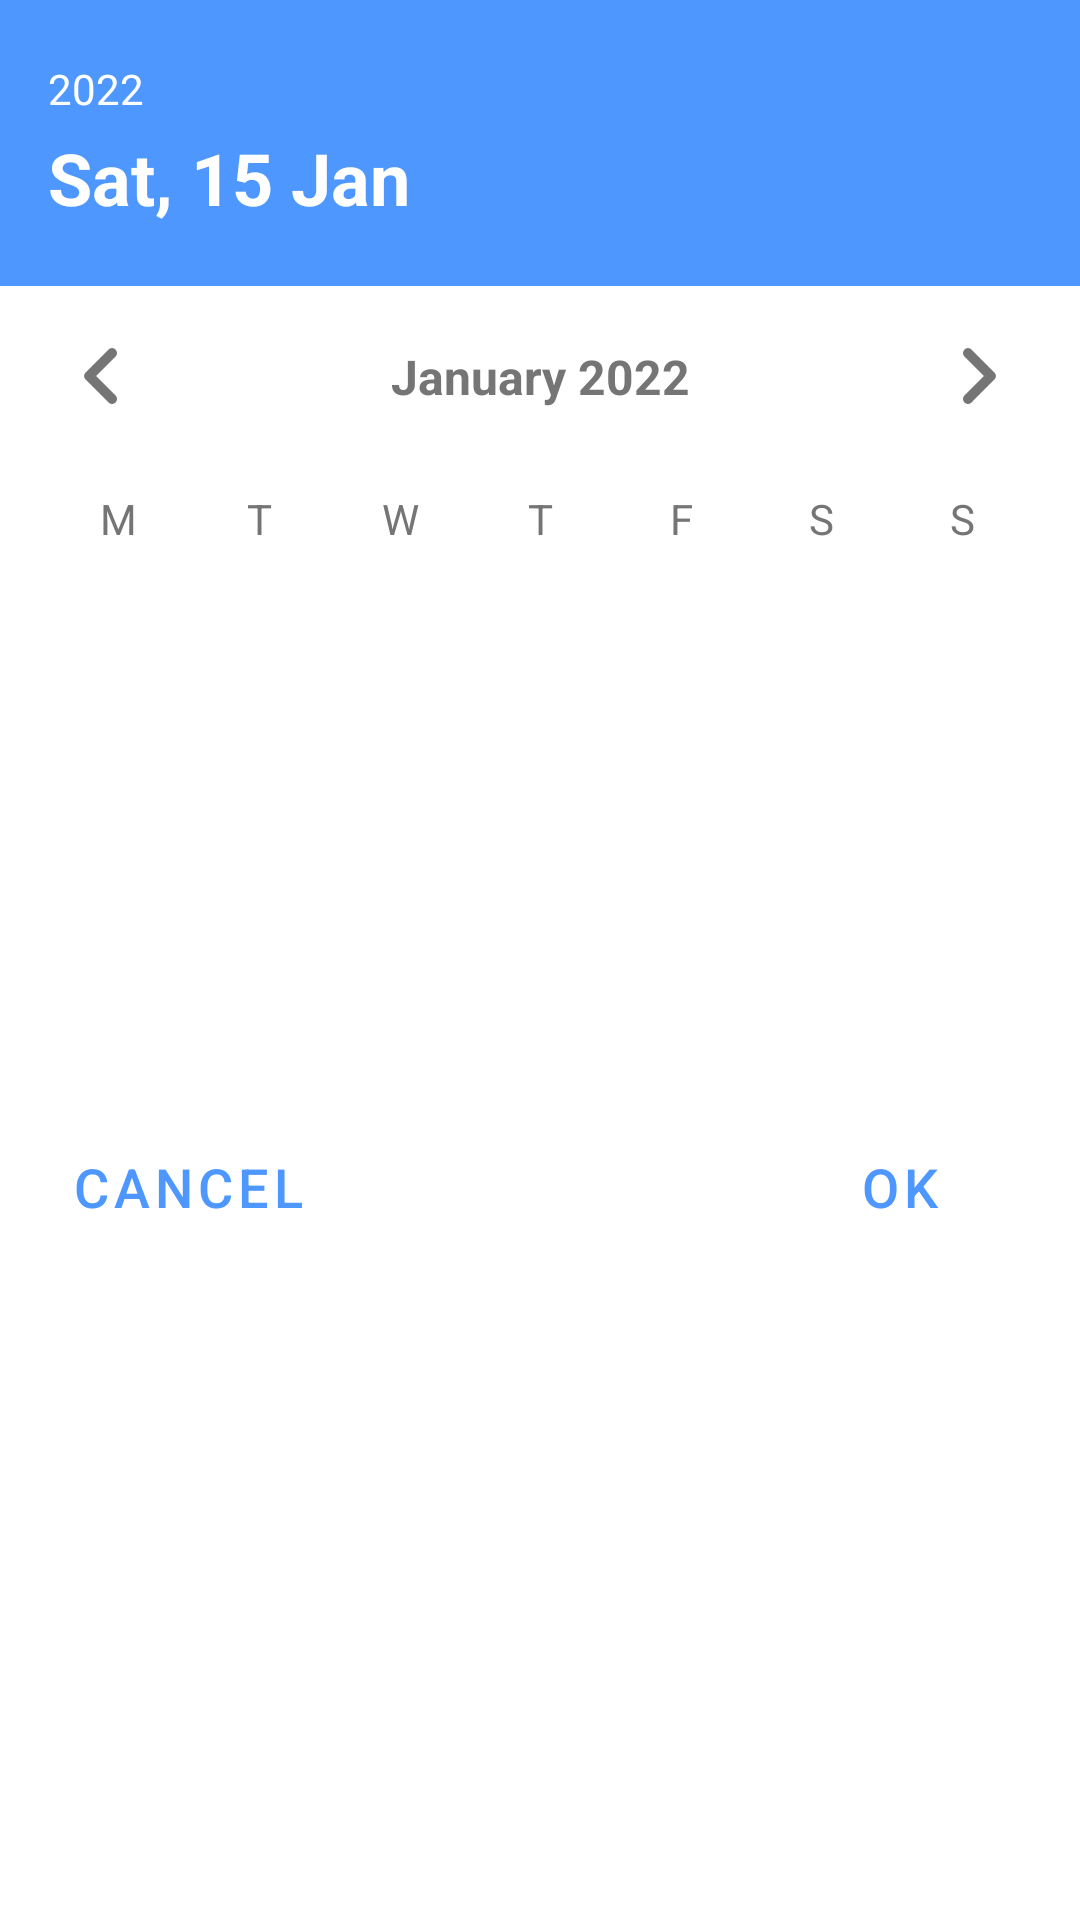

Where to tap for icons on this 1080 x 1920 app screen, as point (x, y):
Next month: point (979, 376)
Previous month: point (100, 376)
